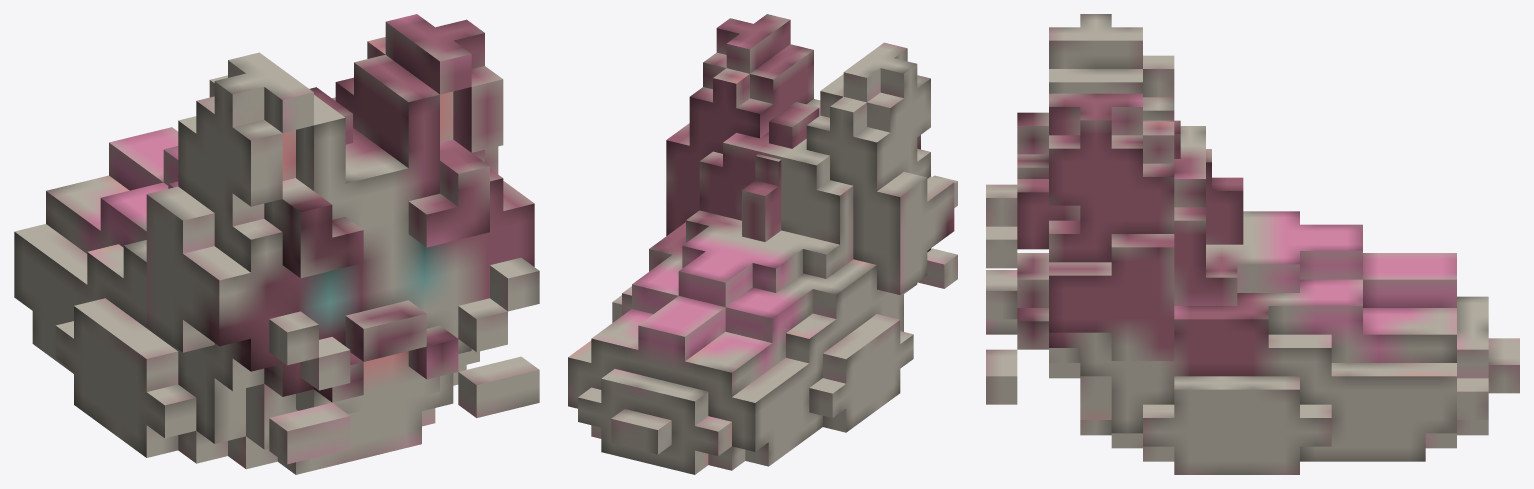
Rendered from skin_12.fbx.
The picture shows the model from 3 angles, left to right: view 1: azimuth 30°, elevation 25°; view 2: azimuth 150°, elevation 25°; view 3: azimuth 270°, elevation 25°; orthographic projection. The views are drawn at different scales.
Visible parts, largest first — view 1: skin_12-5.002, skin_12-0.002; view 2: skin_12-5.002, skin_12-0.002; view 3: skin_12-5.002, skin_12-0.002.
Part boxes in pixels (bbox=[...]): skin_12-5.002: bbox=[14, 14, 539, 474]; skin_12-0.002: bbox=[310, 87, 352, 144]; skin_12-5.002: bbox=[568, 14, 957, 474]; skin_12-0.002: bbox=[742, 102, 819, 241]; skin_12-5.002: bbox=[986, 14, 1519, 474]; skin_12-0.002: bbox=[1143, 120, 1243, 244].
Size of the model in its own units: 100 by 121 by 170.
